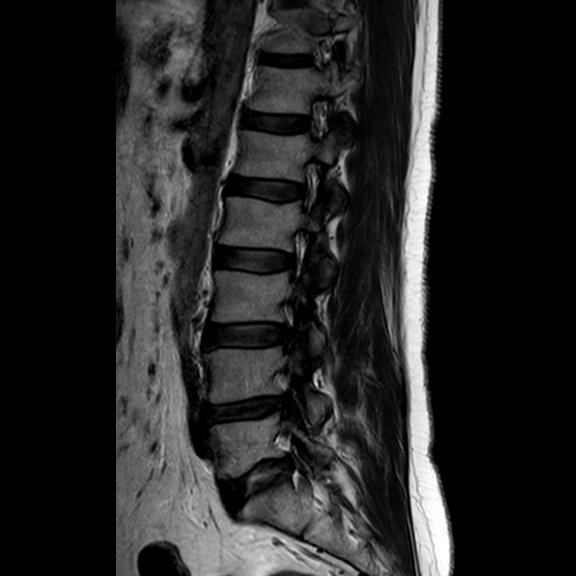LFS0: (288, 153, 330, 217)
